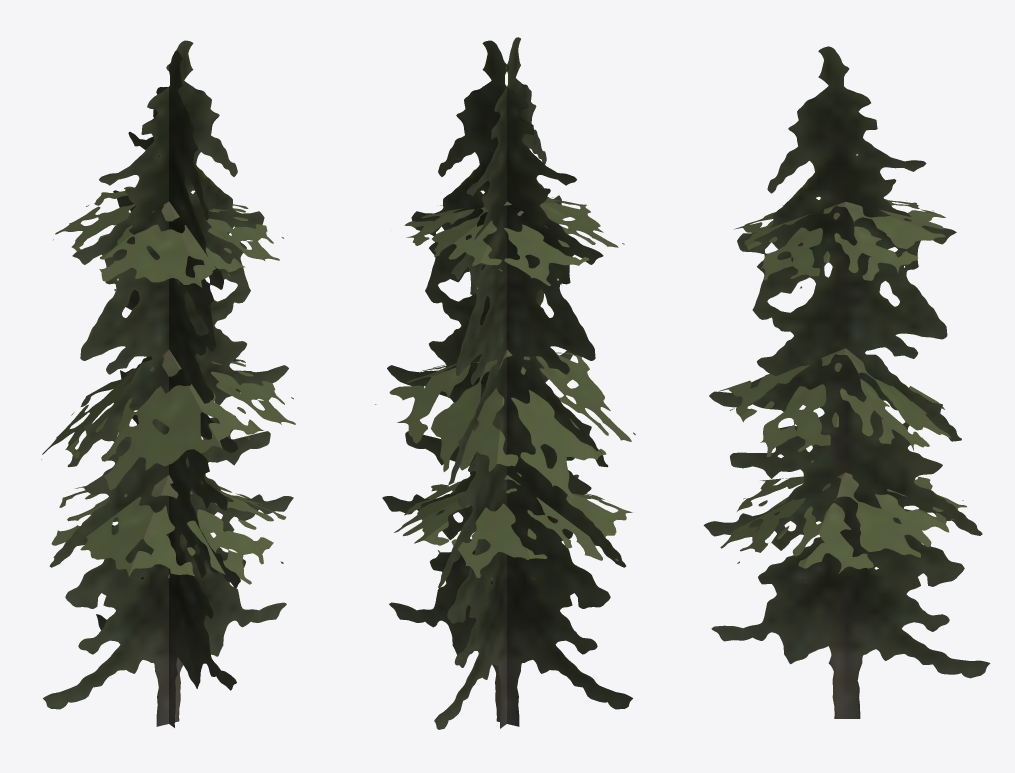
The model's file is forest_pine002.glb.
3 views of the same model, side by side, from view 1: azimuth 30°, elevation 25°; view 2: azimuth 150°, elevation 25°; view 3: azimuth 270°, elevation 25° (orthographic).
Size of the model in its own units: 2.45 by 6 by 2.45.
Materials: 1 (1 with a texture image).
